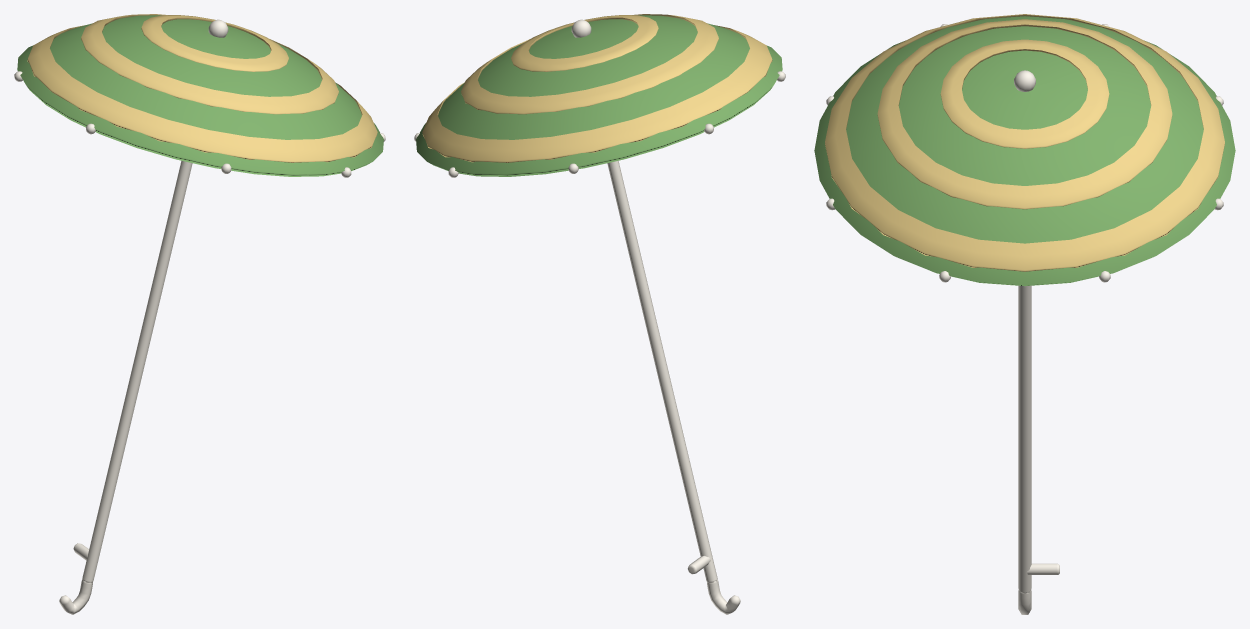
The model's file is fairy_tale_umbrella.glb.
3 renders of one model, left to right at view 1: azimuth 30°, elevation 25°; view 2: azimuth 150°, elevation 25°; view 3: azimuth 270°, elevation 25°, orthographic. The views are drawn at different scales.
Parts seen in each view (by area): view 1: fairy_tale_umbrella_ArmR; view 2: fairy_tale_umbrella_ArmR; view 3: fairy_tale_umbrella_ArmR.
Part boxes in pixels (left/top/right/bottom): fairy_tale_umbrella_ArmR: left=14, top=14, right=385, bottom=614; fairy_tale_umbrella_ArmR: left=414, top=14, right=785, bottom=614; fairy_tale_umbrella_ArmR: left=814, top=14, right=1235, bottom=614.
Size of the model in its own units: 0.8703 by 1.47 by 0.9.
